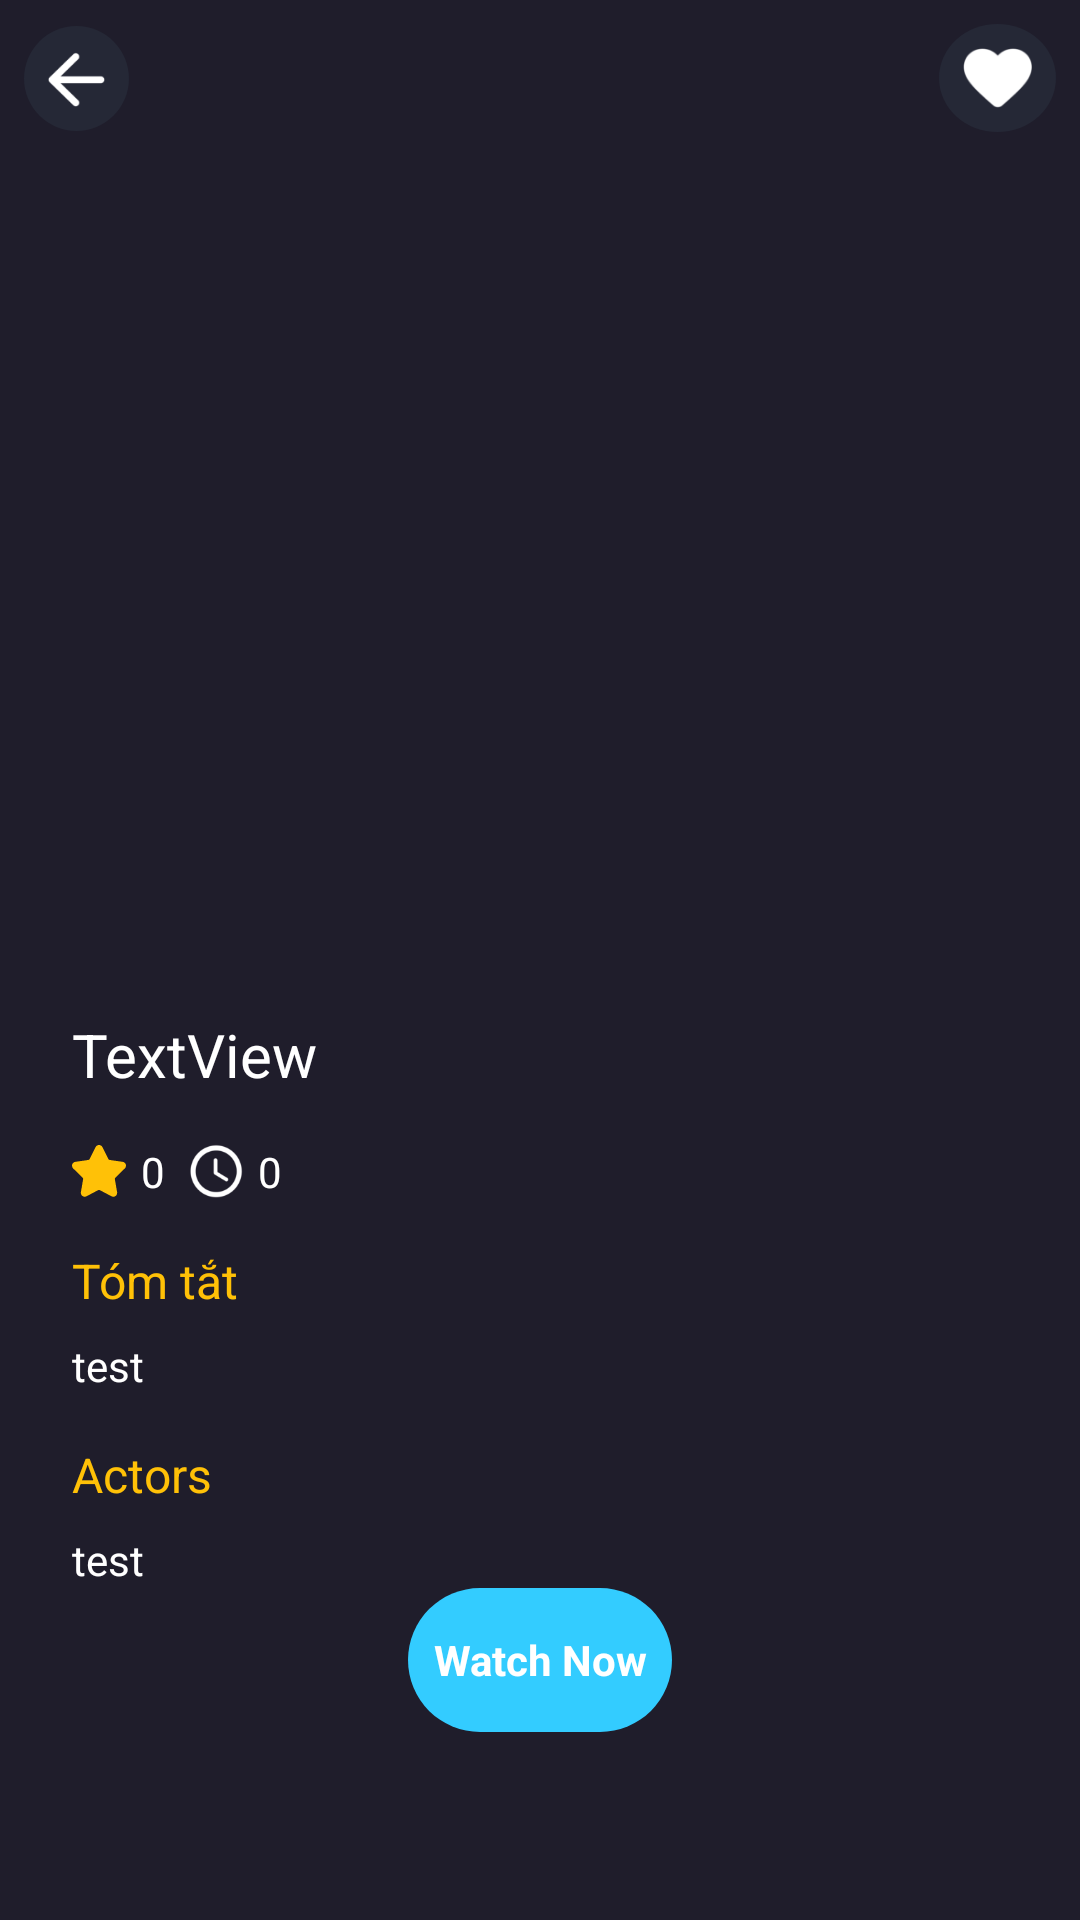

Where icons sit on this 1080x1920 app screen, as (x1, y1, x2, y2):
back: (24, 26, 129, 131)
fav: (963, 48, 1032, 108)
